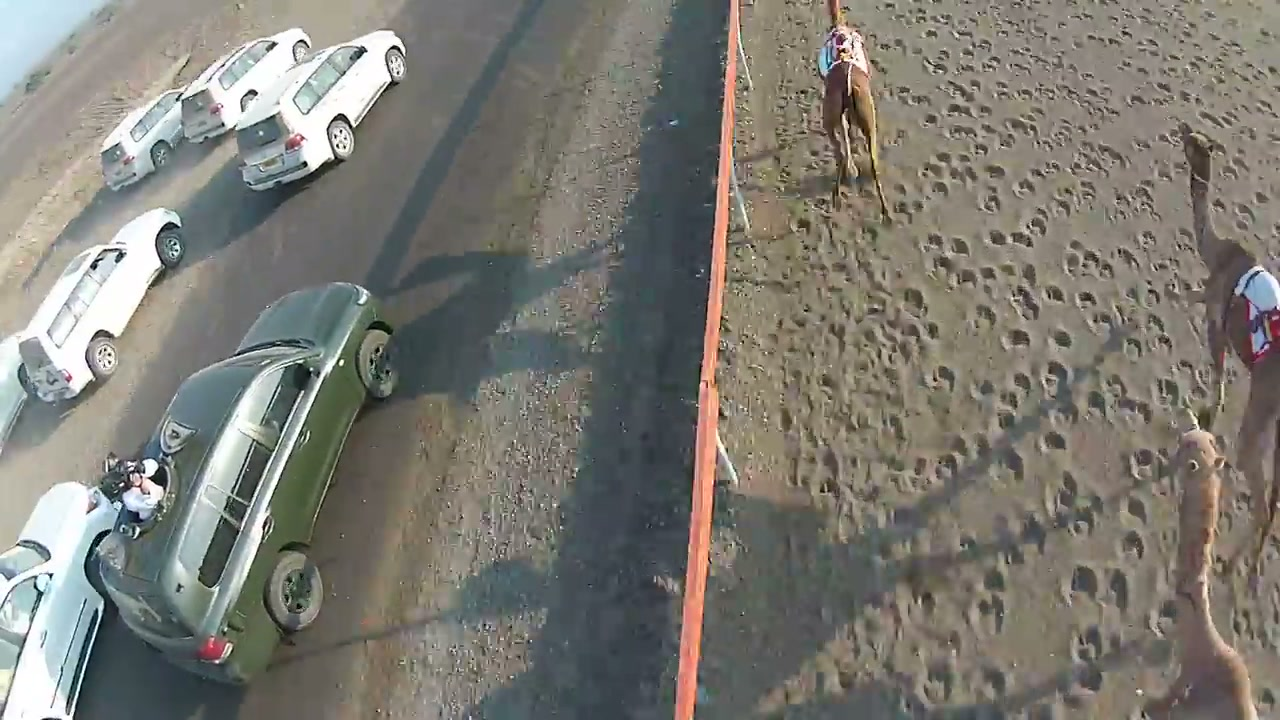animal_foot_print: (778, 0, 1279, 718), (1062, 624, 1120, 709), (1049, 471, 1103, 536), (1064, 564, 1130, 616), (1084, 375, 1154, 424), (967, 593, 1007, 635), (1040, 359, 1070, 402), (1067, 565, 1100, 600), (1147, 597, 1176, 636), (1125, 281, 1161, 309), (1126, 448, 1157, 480), (1119, 531, 1145, 561), (1002, 328, 1031, 350)
